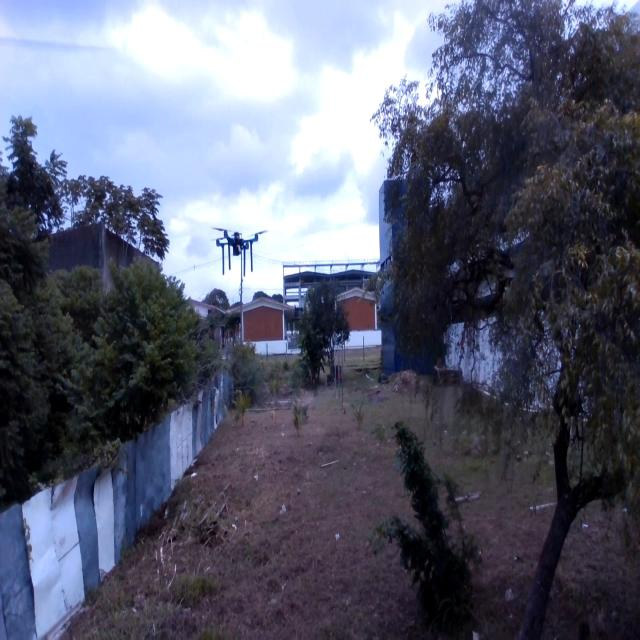-uav-: (208, 210, 274, 301)
